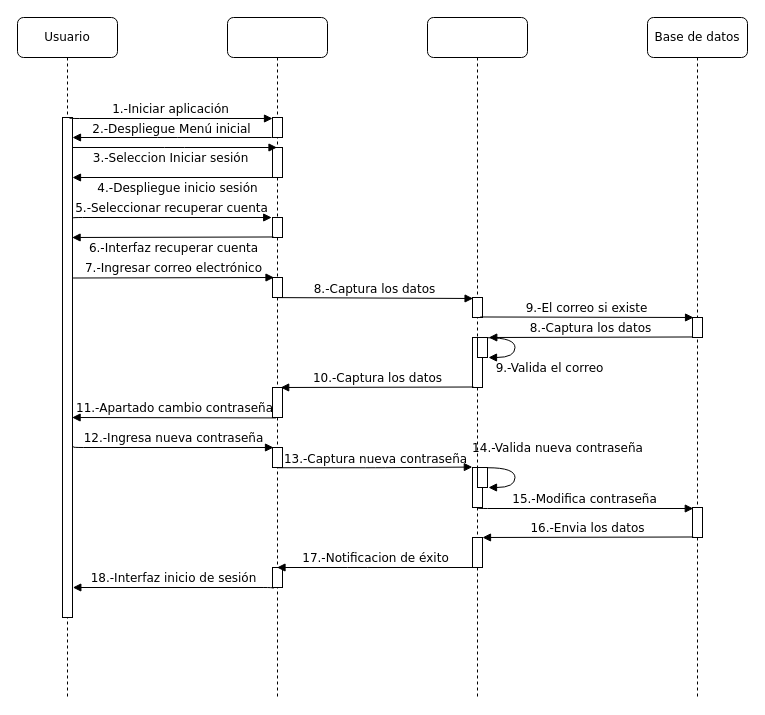
Some shapes in this 765 by 715 pixel diagram are drawn without their labels. Here are the shapes that lost their labels. From the top down, the centre of each, then its label:
the point at 277,357: Interfaz
the point at 477,357: Capa de negocio
